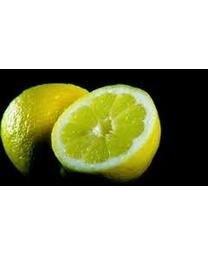lemon: (51, 84, 160, 178), (2, 86, 91, 176)
